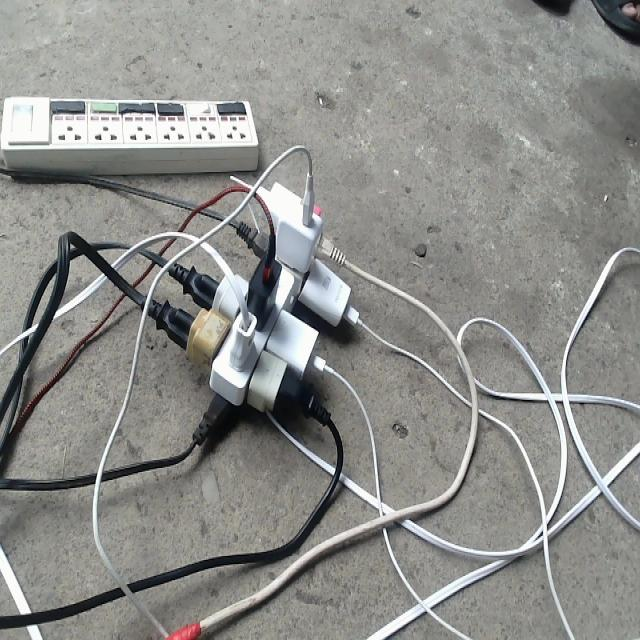-: (139, 170, 359, 446)
